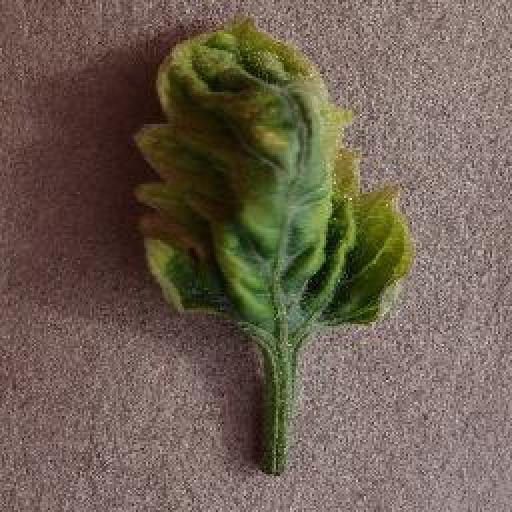disease_tomato: (128, 14, 412, 334)
